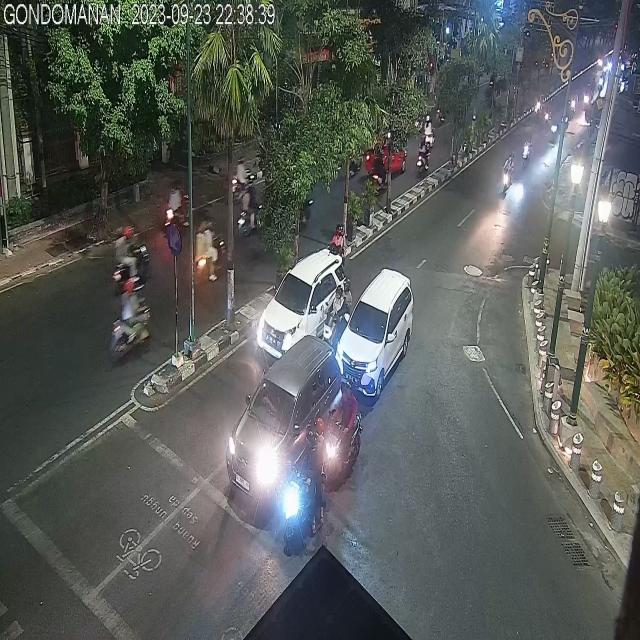car: (224, 339, 345, 501), (333, 269, 415, 398), (256, 257, 348, 346), (363, 135, 410, 177)
motorcycle: (276, 415, 332, 559), (325, 382, 363, 489), (110, 281, 152, 361), (112, 224, 150, 297), (193, 211, 223, 288), (322, 282, 352, 348), (235, 185, 261, 244), (165, 180, 192, 233), (414, 136, 434, 182), (230, 153, 250, 193), (372, 147, 388, 197), (502, 153, 515, 206), (522, 128, 530, 173)
